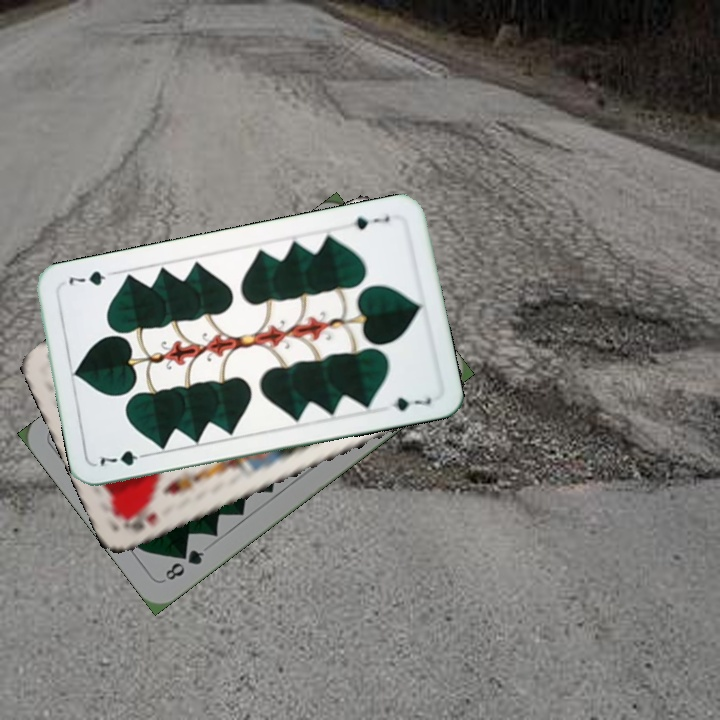G7: (95, 446, 153, 469), (349, 212, 393, 232)
G8: (161, 545, 207, 583)
HK: (124, 508, 159, 535)
